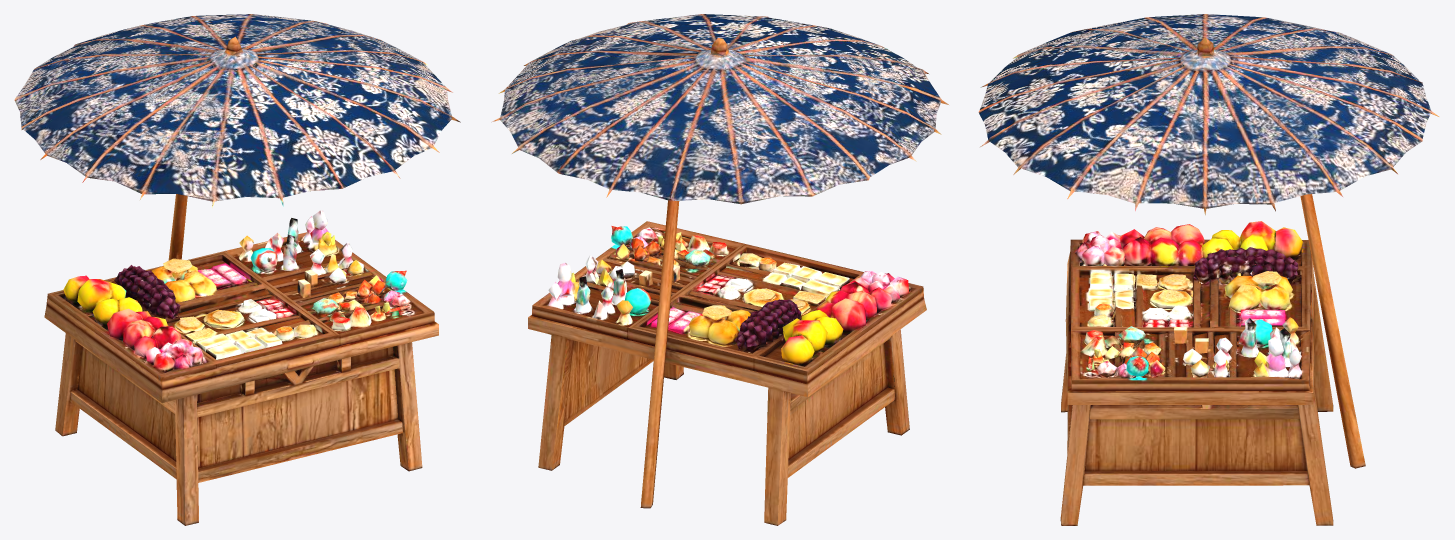
Rendered from qm_stall_lo.glb.
The picture shows the model from 3 angles, left to right: view 1: azimuth 30°, elevation 25°; view 2: azimuth 150°, elevation 25°; view 3: azimuth 270°, elevation 25°; orthographic projection. The views are drawn at different scales.
Visible parts, largest first — view 1: qm_stall; view 2: qm_stall; view 3: qm_stall.
Boxes of the visible parts, x1,y1,x2,y2 form: qm_stall: (14,14,460,525); qm_stall: (491,14,948,525); qm_stall: (978,14,1439,525).
Bounding box in the file's own units: 3.19 × 3.2 × 3.14.
Materials: 1 (1 with a texture image).
